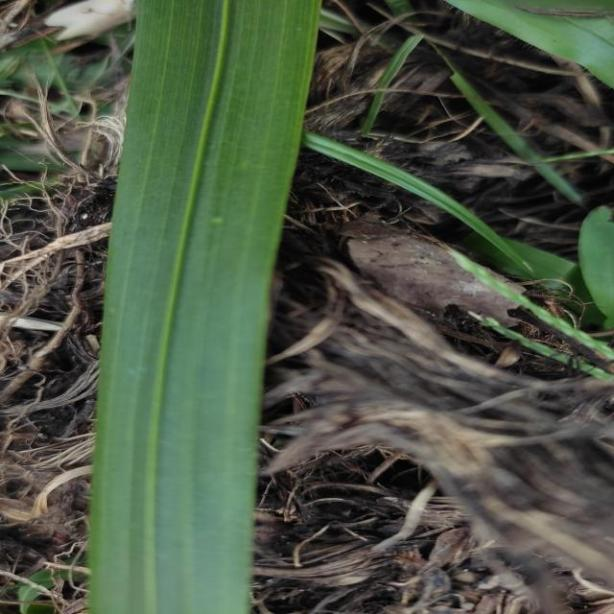Healthy: (88, 0, 325, 614)
